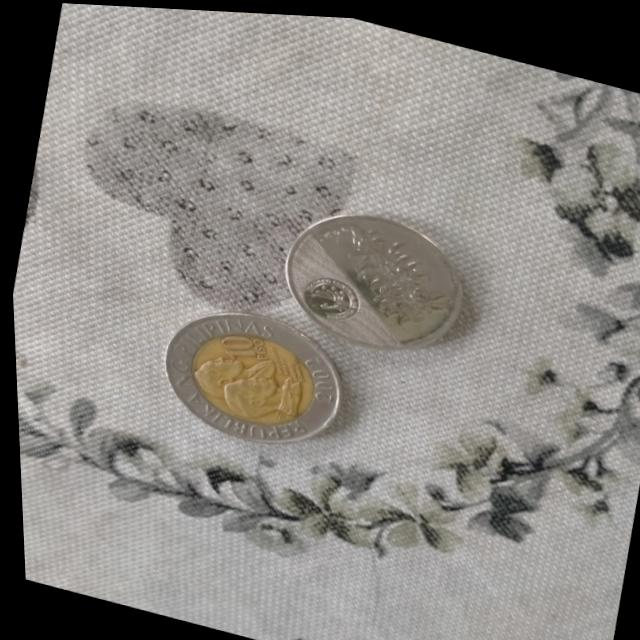10_Old_Front: (146, 293, 344, 454)
